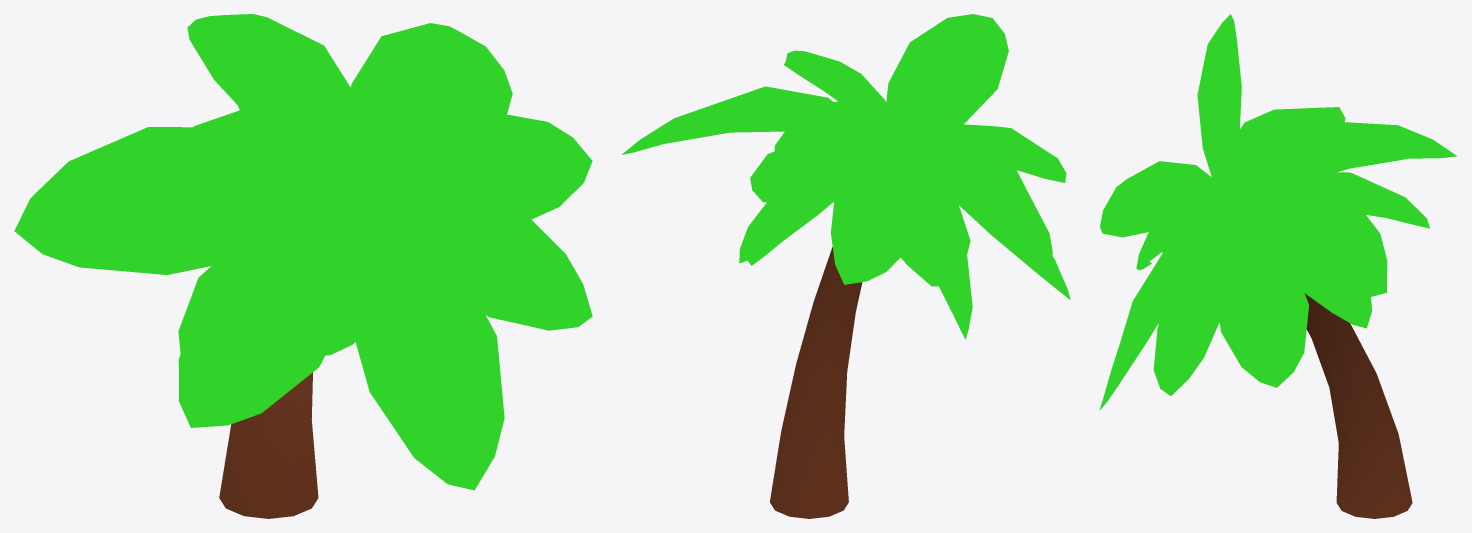
File: PalmTree2.FBX
3 views of the same model, side by side, from view 1: azimuth 30°, elevation 25°; view 2: azimuth 150°, elevation 25°; view 3: azimuth 270°, elevation 25° (orthographic). The views are drawn at different scales.
Visible parts, largest first — view 1: Object041; view 2: Object041; view 3: Object041.
Boxes of the visible parts, left/top/right/bottom form: Object041: left=14, top=14, right=592, bottom=518; Object041: left=622, top=14, right=1070, bottom=518; Object041: left=1099, top=14, right=1456, bottom=518.
Bounding box in the file's own units: 87.61 × 95.34 × 70.52.
